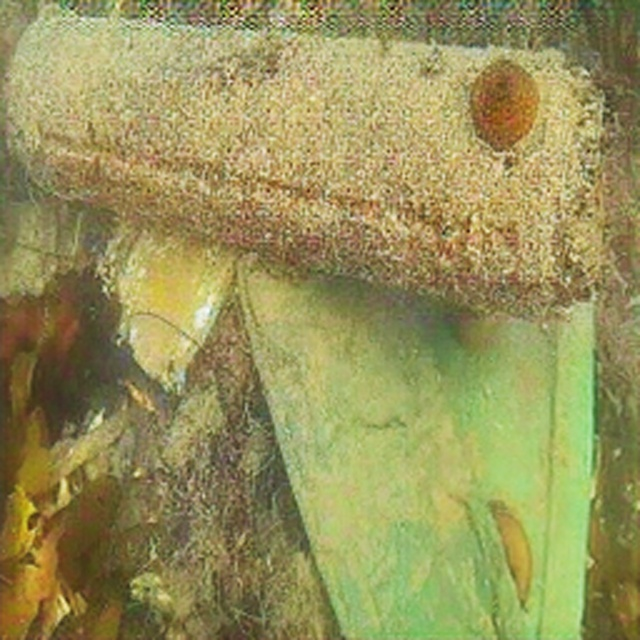mine: (4, 2, 608, 321)
